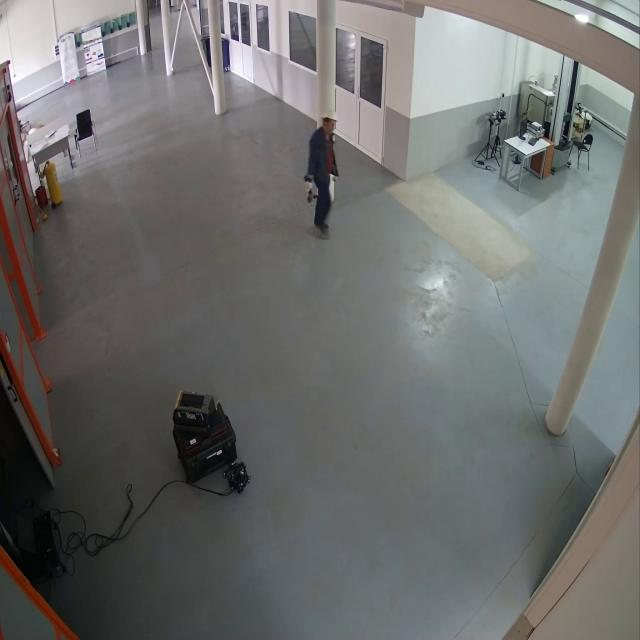Person: (306, 110, 338, 239), (326, 109, 336, 122)
